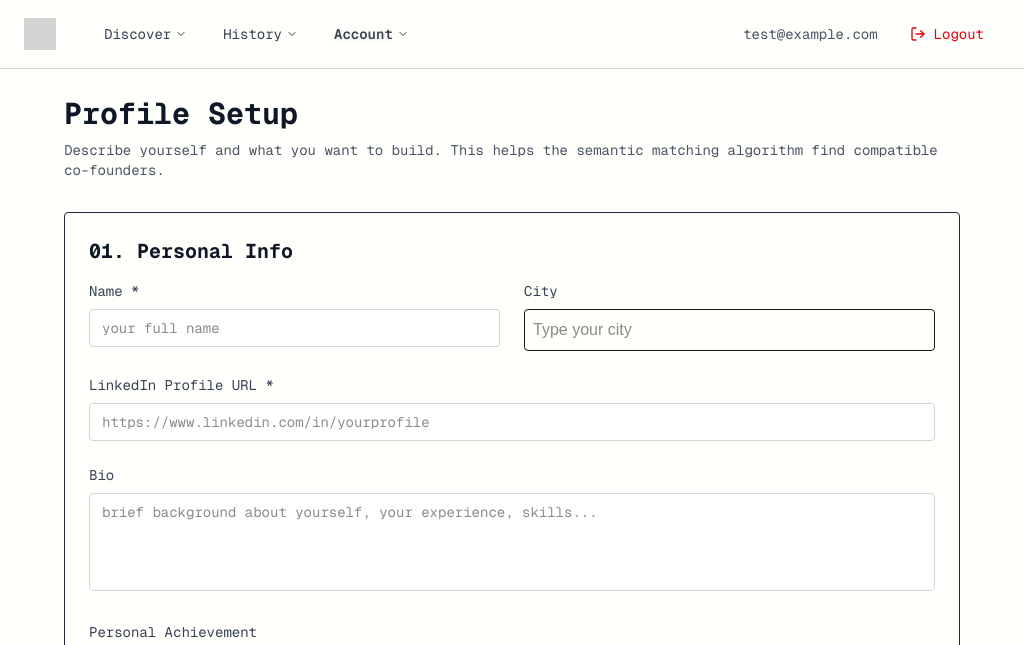
Scenario: ProfilePage Integration Tests › should handle save errors gracefully
Fill in required fields
Type "Jane Smith" into the field with placeholder "your full name". click: (294, 328)
box: [89,309,500,347]
(page scrolled)
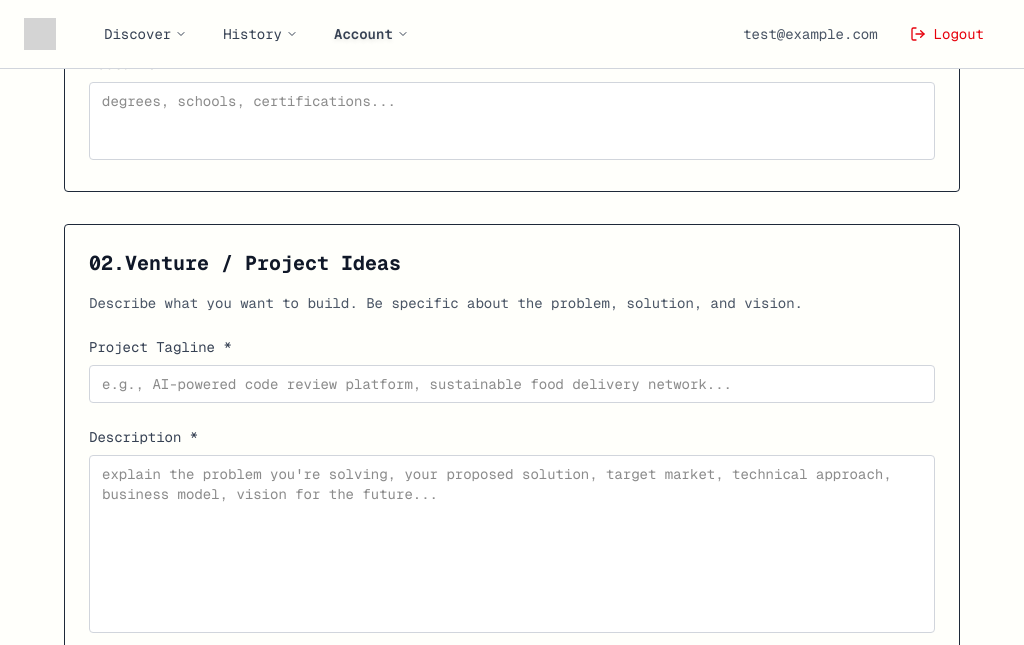
Type "DevTools" into the field with placeholder "AI-powered code review platform". click: (512, 384)
box: [89,365,935,403]
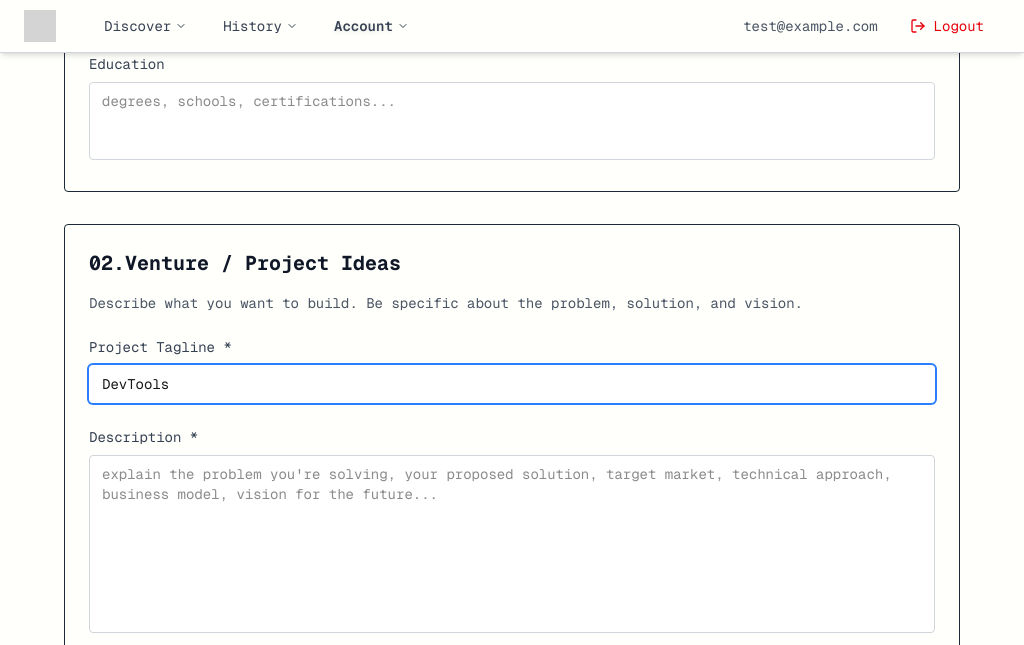
Type "A toolkit" into the text box with placeholder "explain the problem you're solving". click: (512, 544)
box: [89,455,935,633]
(page scrolled)
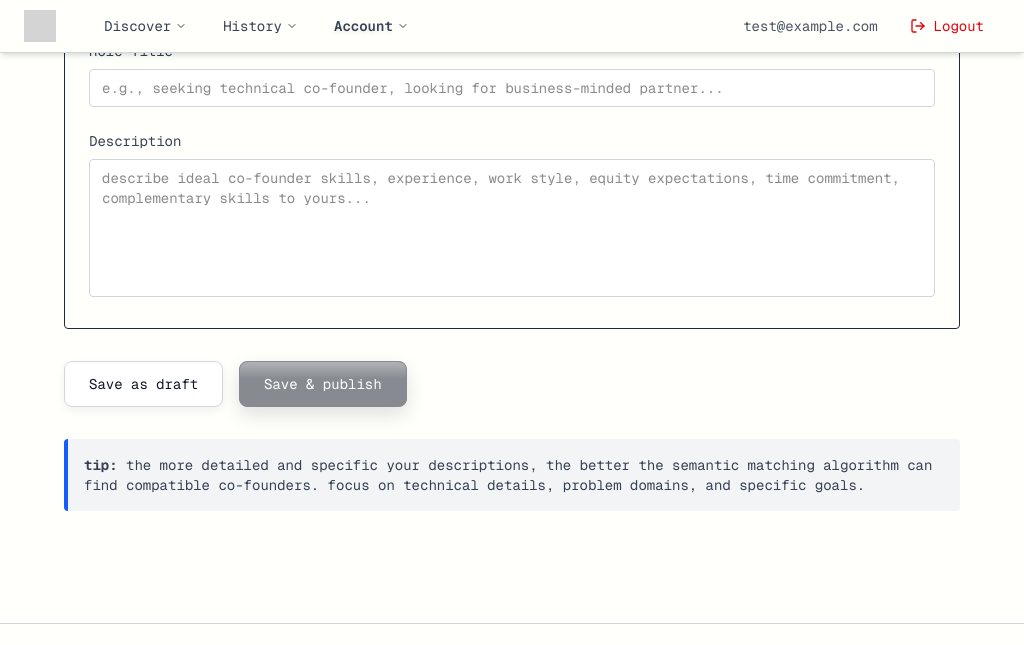
Try to save
Click the button "Save as draft". click: (144, 384)
box: [64,361,223,407]
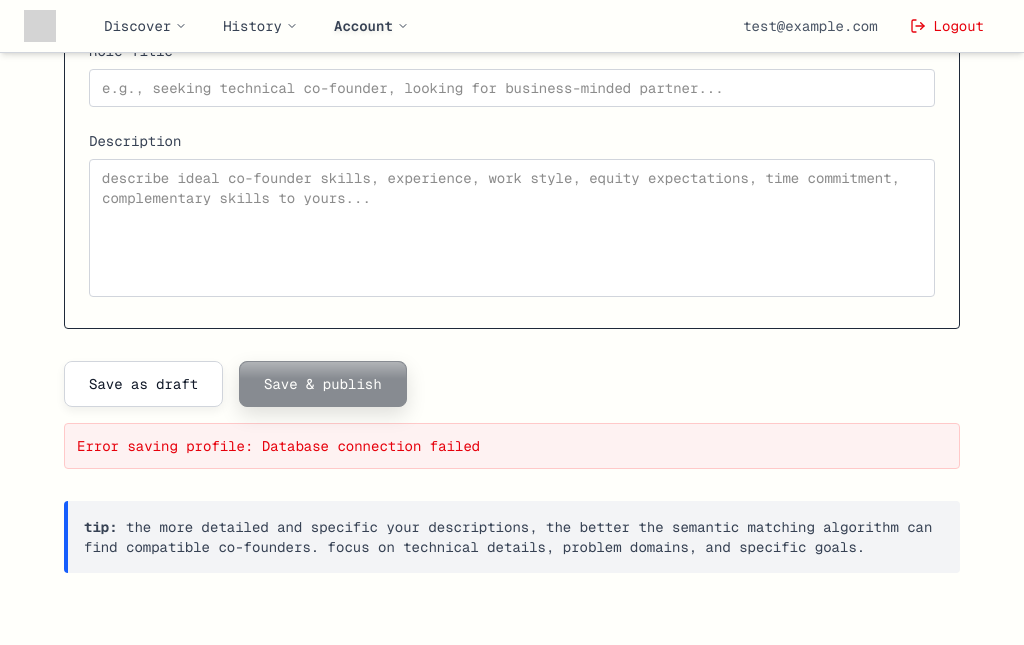
Check: the text "Error saving profile: Database connection failed" is shown, box [64,423,960,469]
